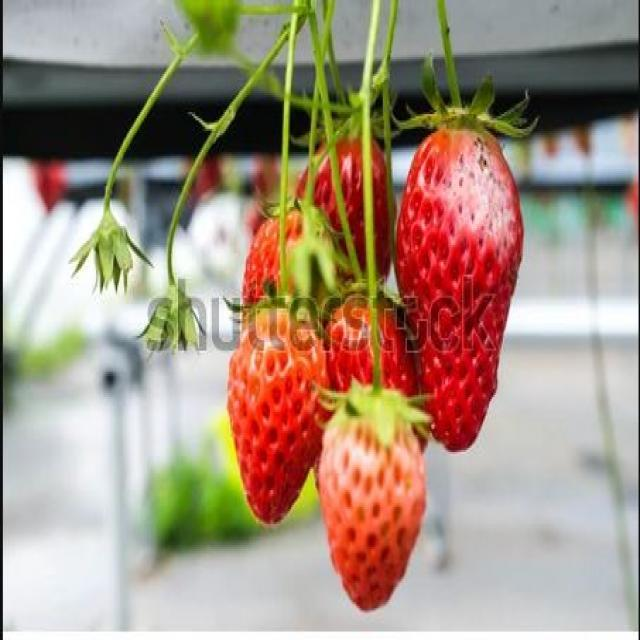Fruta sana: (410, 108, 528, 452), (318, 375, 425, 618), (221, 292, 330, 526), (314, 270, 419, 424), (244, 174, 336, 345), (306, 128, 396, 290)
